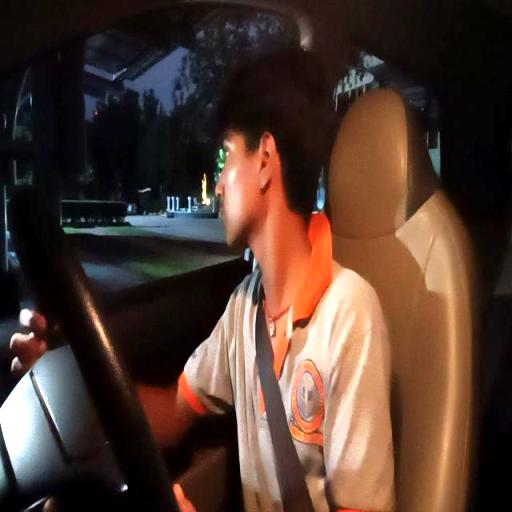Reaching_behind: (171, 49, 392, 512)
